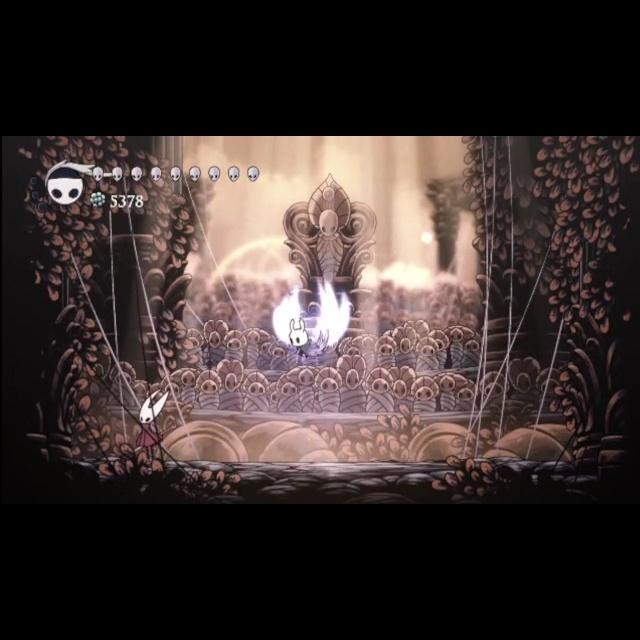Enemy: (130, 386, 177, 462)
Player: (286, 316, 332, 362)
